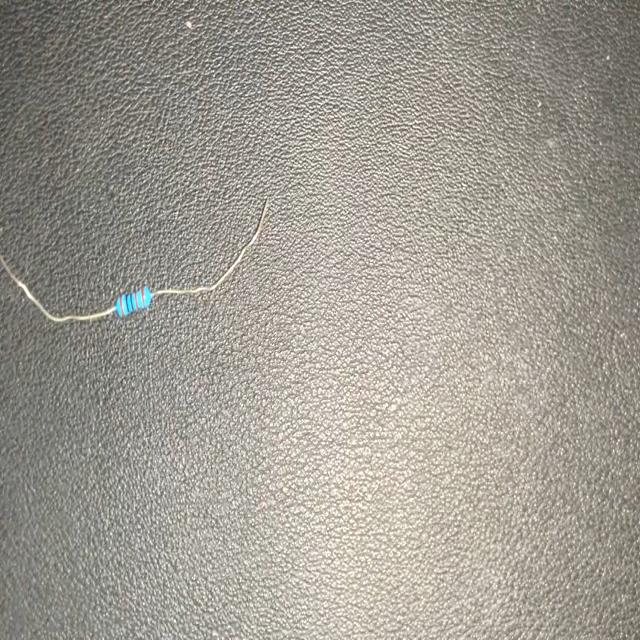resistor: (0, 188, 272, 326)
